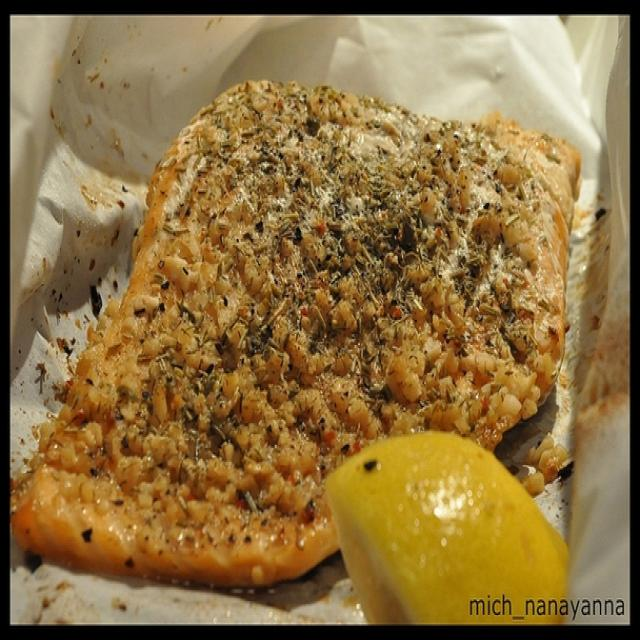熟制海鲜: (21, 31, 594, 612)
